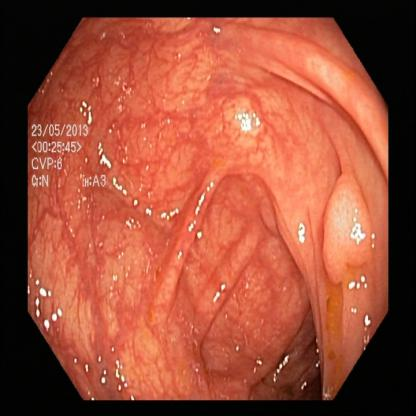Labels: (26, 116, 110, 196)
Polyps: (319, 170, 377, 288)
